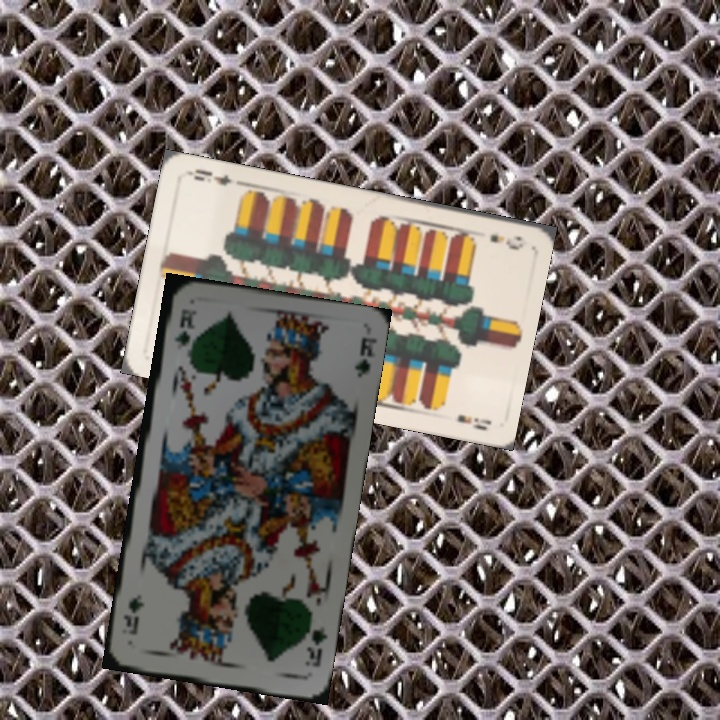E9: (485, 230, 526, 253)
GK: (301, 622, 330, 670), (171, 305, 195, 352)
